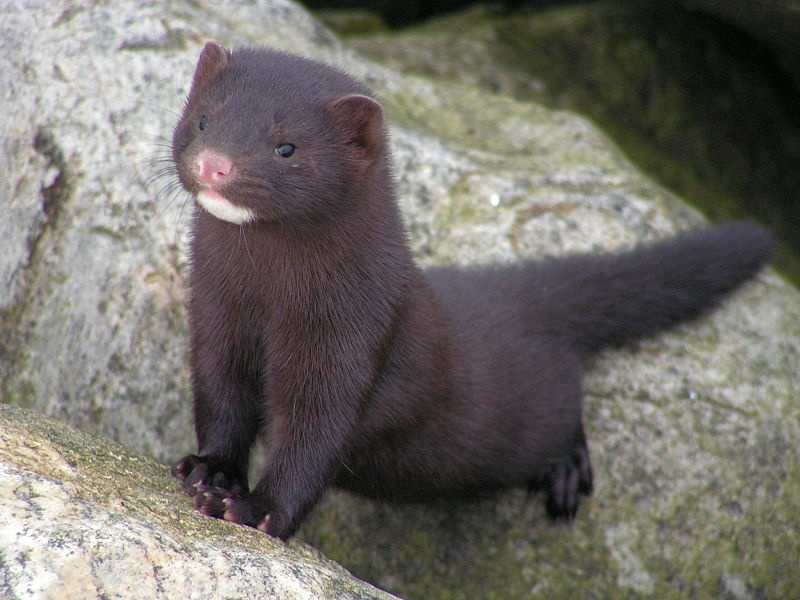minkish: (166, 37, 783, 529)
